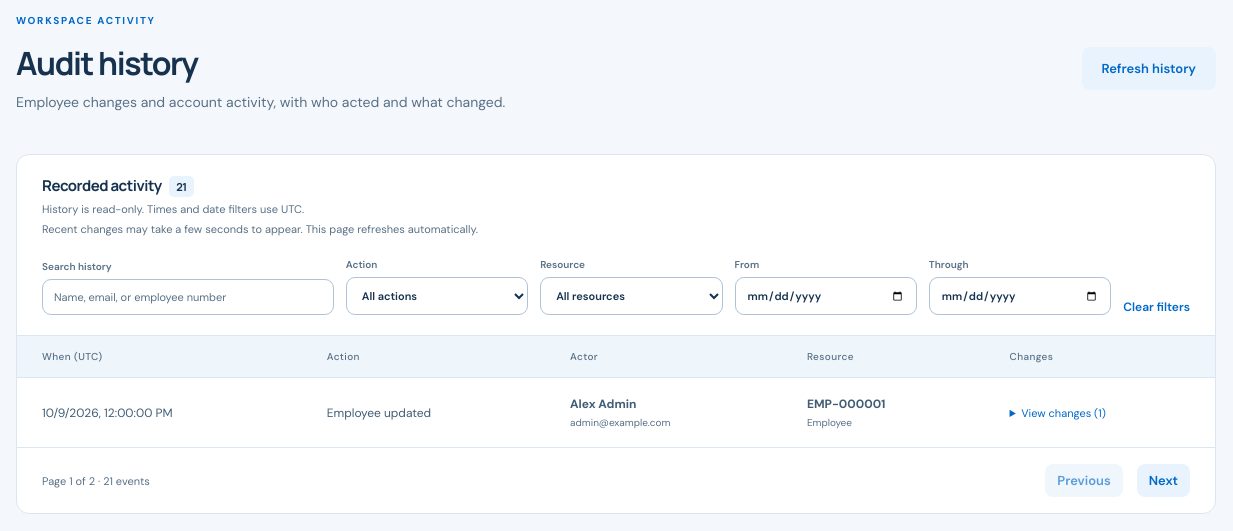
Test: a failed new filter does not display results from the preceding query
This screenshot has width=1233, height=531.
Check: the cell "Employee updated" is shown, box [302, 378, 545, 447]
Select "Employee deleted" in the dropdown labelled "Action" at {"x": 437, "y": 296}, box [346, 277, 528, 315]
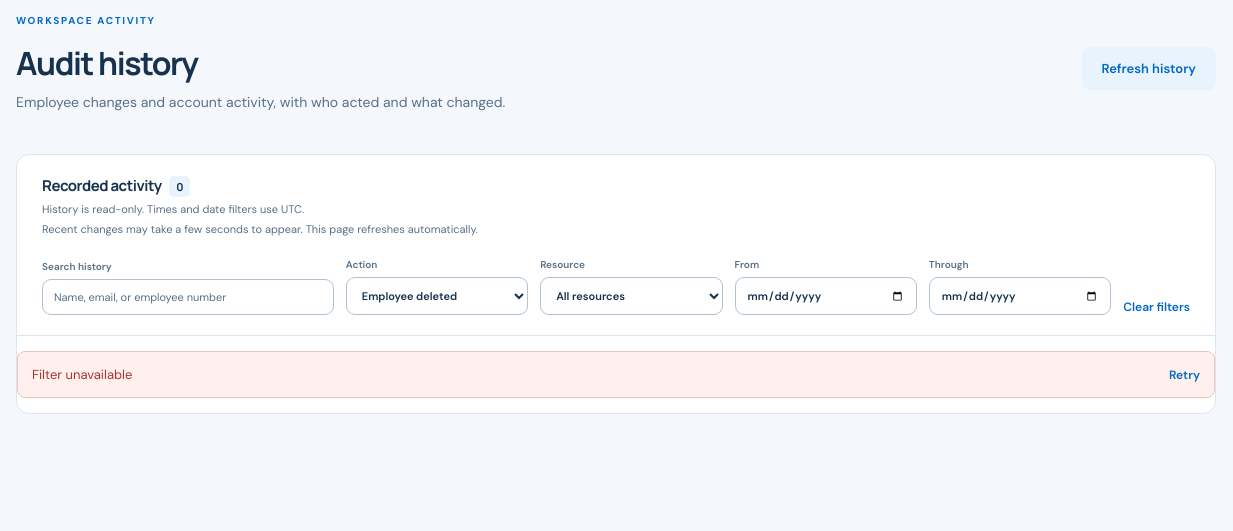
Check: the message shows "Filter unavailable", box [32, 366, 132, 383]
Check: the cell "Employee updated" is gone
